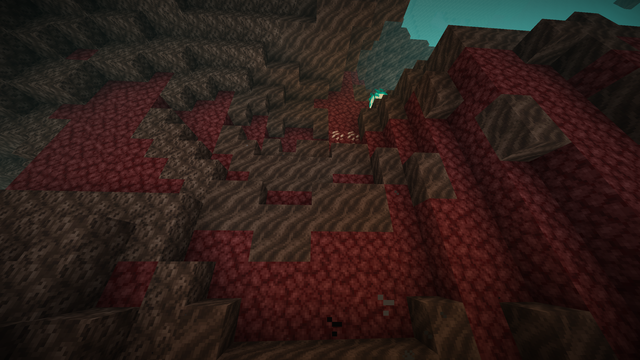quartz: (329, 130, 362, 143)
